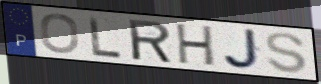H: (175, 23, 216, 68)
J: (221, 28, 264, 71)
L: (86, 14, 124, 60)
O: (39, 12, 82, 55)
R: (126, 18, 175, 65)
S: (264, 31, 310, 75)
